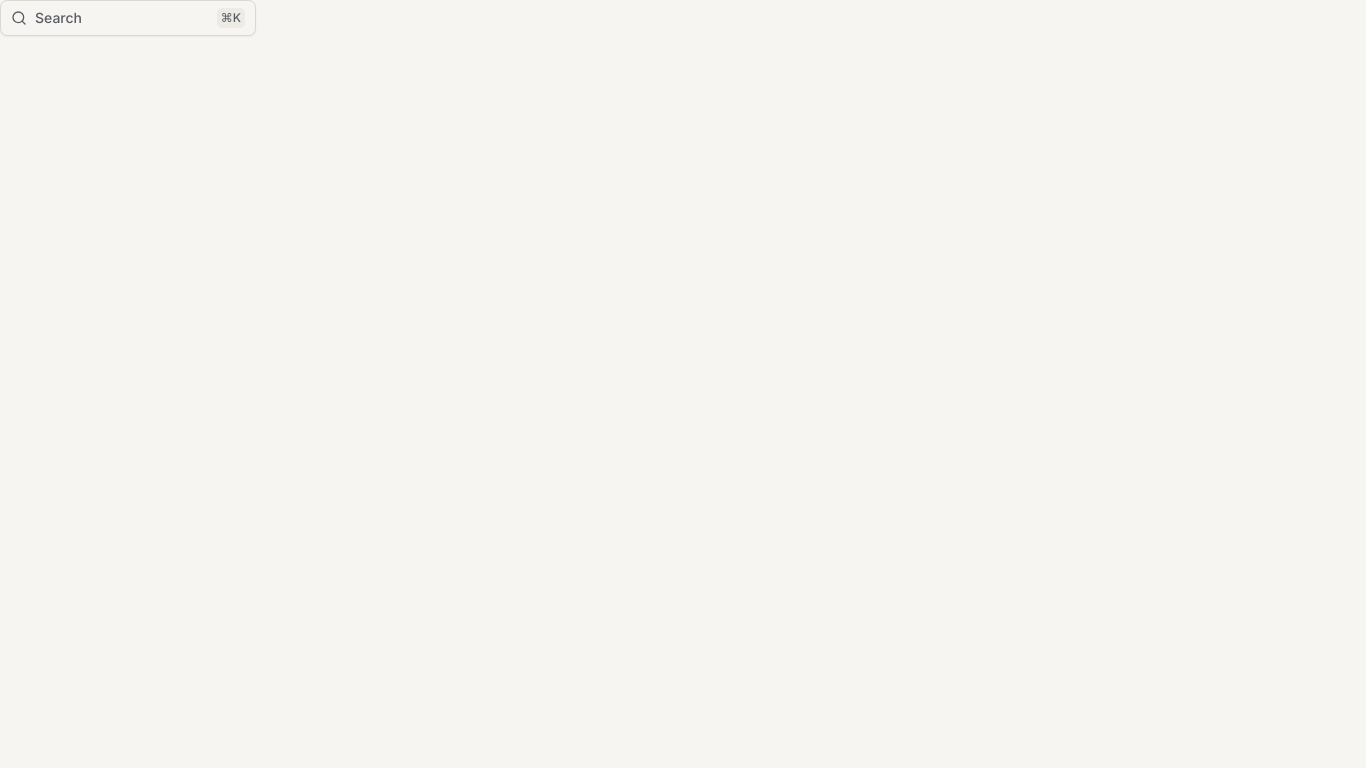
Test: CommandMenu › record search (PRD §7.6, HU-26) › CA2: "invsion" finds "Inversión" (trigram similarity)
Press k
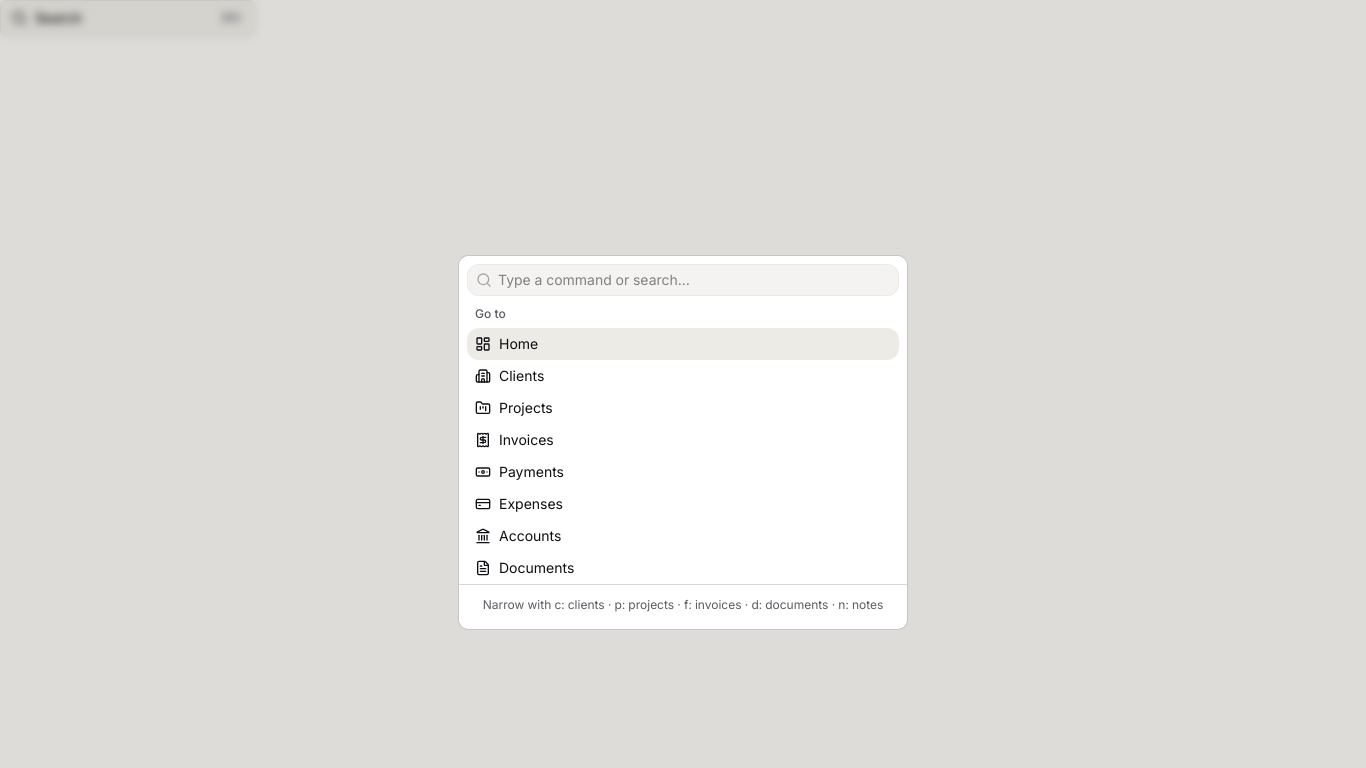
Type "invsion" into the dropdown at (695, 280), box [492,270,898,290]
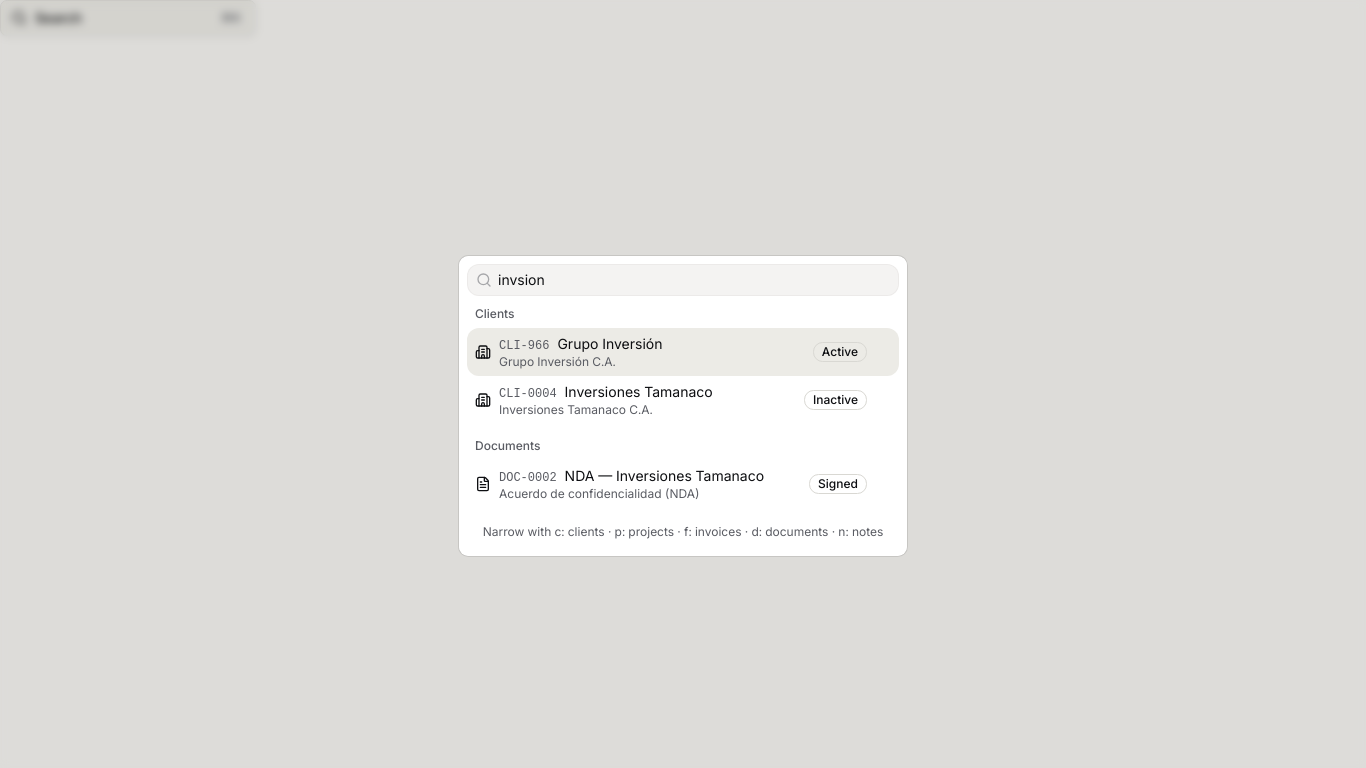
Check: the option "CLI-966 Grupo Inversión Grupo Inversión C.A. Active" is shown, box [467,328,899,376]
